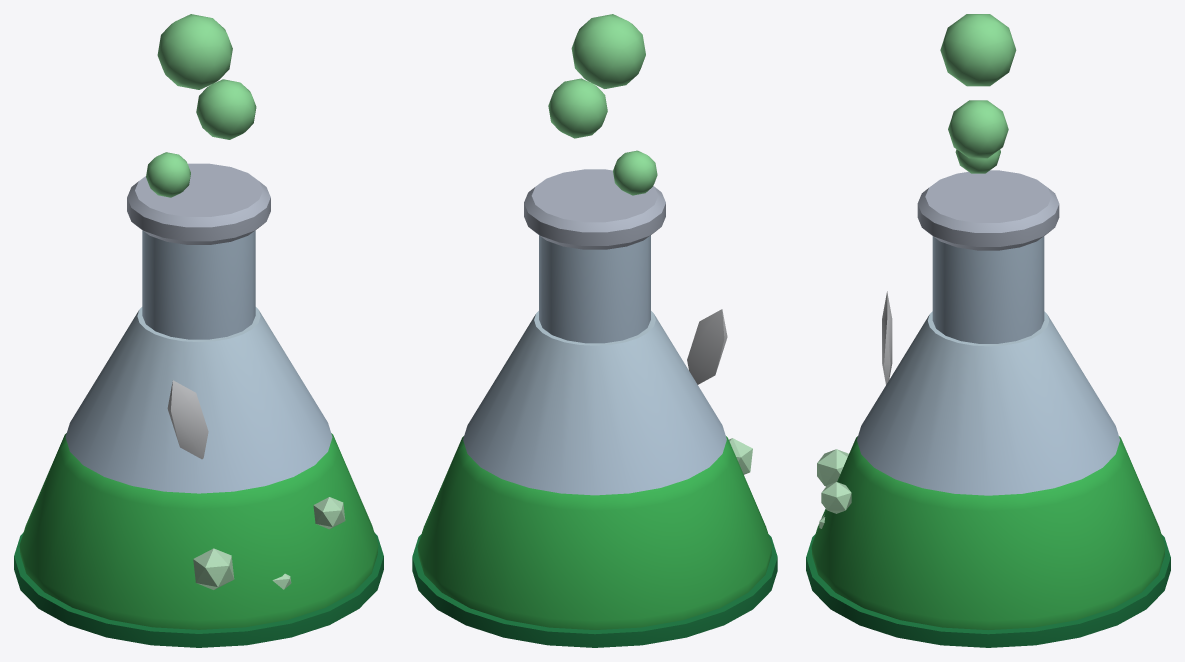
File: ui_research.glb
3 renders of one model, left to right at view 1: azimuth 30°, elevation 25°; view 2: azimuth 150°, elevation 25°; view 3: azimuth 270°, elevation 25°, orthographic.
Visible parts, largest first — view 1: body; view 2: body; view 3: body.
Boxes of the visible parts, x1,y1,x2,y2 form: body: (14,14,383,647); body: (412,14,777,647); body: (806,14,1170,647).
Bounding box in the file's own units: 0.36 × 0.6 × 0.36.
